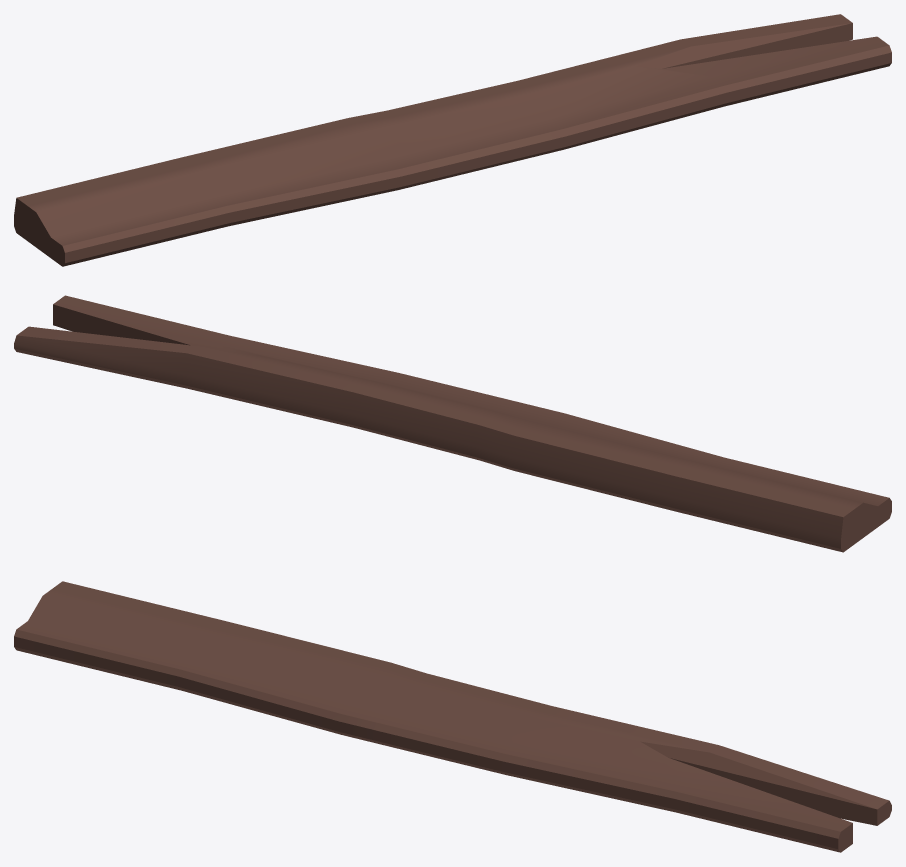
The model's file is SM_Wooden_Plank_Railing_06.fbx.
The picture shows the model from 3 angles, top to bottom: view 1: azimuth 30°, elevation 25°; view 2: azimuth 150°, elevation 25°; view 3: azimuth 330°, elevation 25°; orthographic projection.
Parts seen in each view (by area): view 1: Wooden_Plank_Railing_06; view 2: Wooden_Plank_Railing_06; view 3: Wooden_Plank_Railing_06.
Part boxes in pixels (box(x1,y1,x2,y2)): Wooden_Plank_Railing_06: box(14, 14, 891, 266); Wooden_Plank_Railing_06: box(14, 295, 891, 552); Wooden_Plank_Railing_06: box(14, 581, 891, 852).
Size of the model in its own units: 116 by 4.72 by 14.11.
